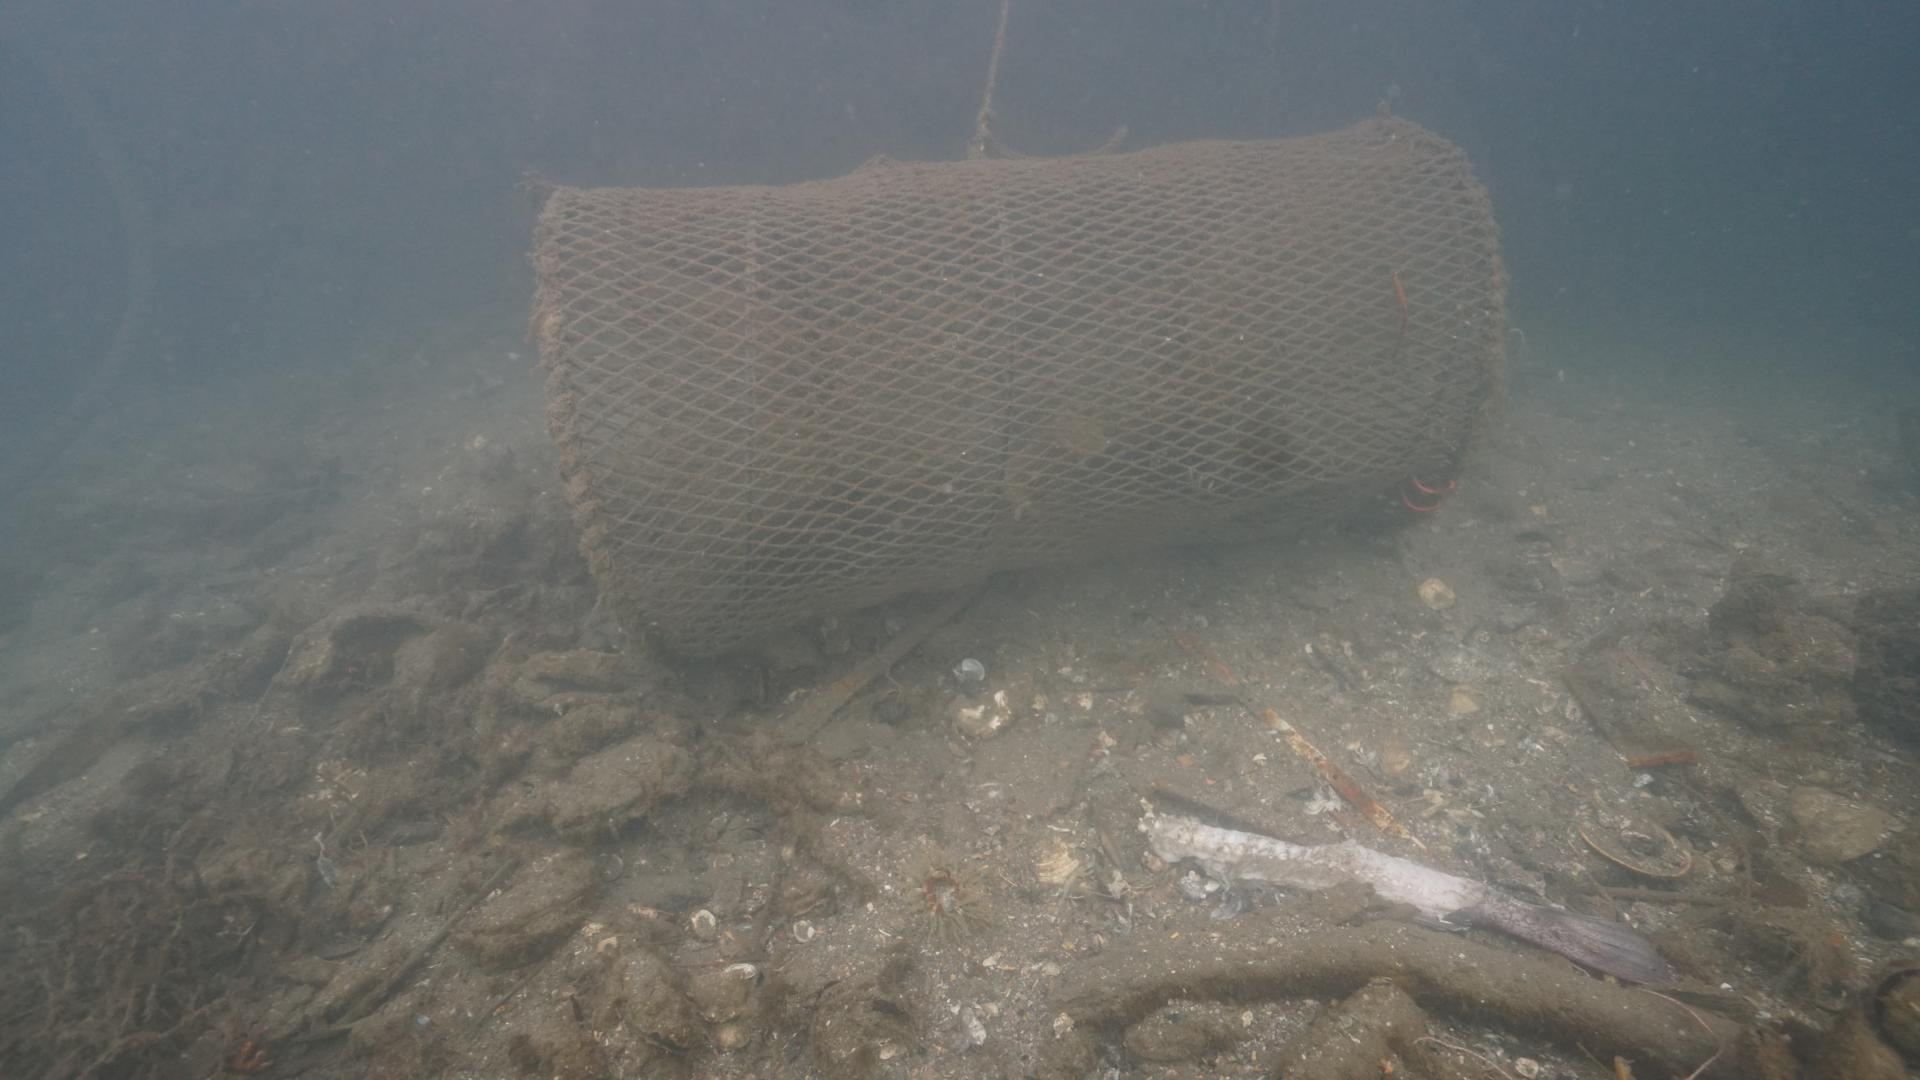rope: (971, 0, 1013, 144)
spring fish trap: (520, 109, 1511, 686)
